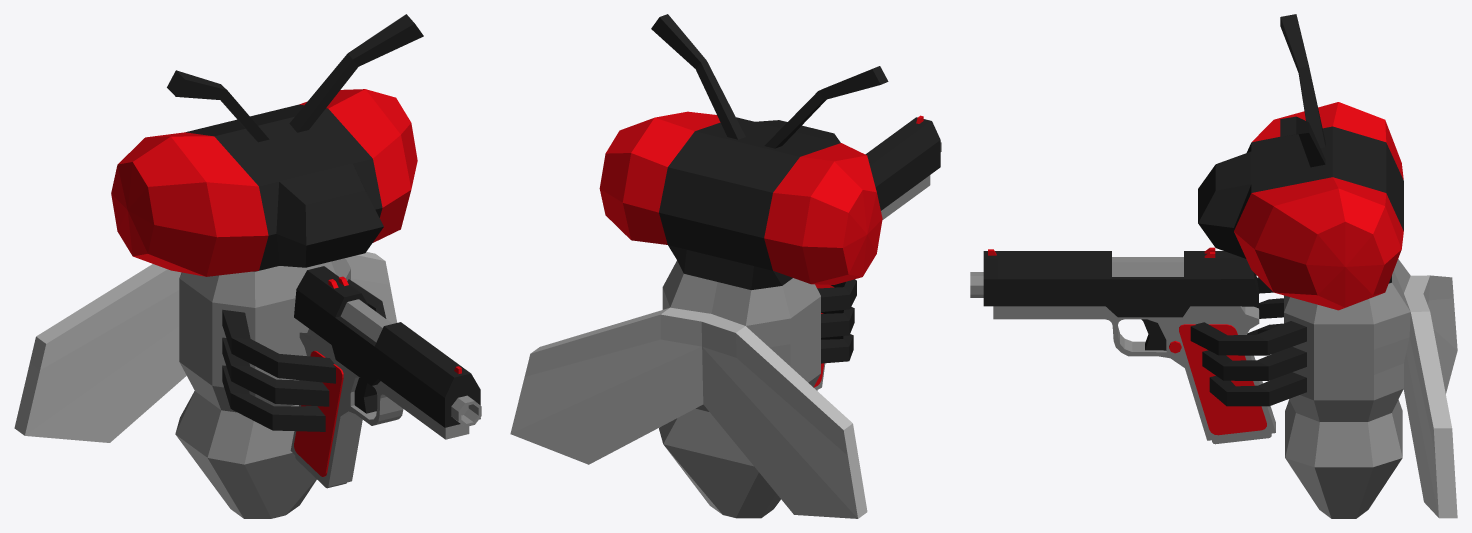
File: Mushroom Fly.fbx
The picture shows the model from 3 angles, left to right: view 1: azimuth 30°, elevation 25°; view 2: azimuth 150°, elevation 25°; view 3: azimuth 270°, elevation 25°; orthographic projection. The views are drawn at different scales.
Visible parts, largest first — view 1: Fly, Body; view 2: Fly, Body; view 3: Fly, Body.
Part boxes in pixels (bbox=[...]): Fly: bbox=[14, 14, 423, 518]; Body: bbox=[290, 266, 481, 488]; Fly: bbox=[510, 14, 888, 518]; Body: bbox=[813, 115, 941, 390]; Fly: bbox=[1190, 14, 1457, 518]; Body: bbox=[970, 247, 1275, 444].
Size of the model in its own units: 661 by 812 by 813.
